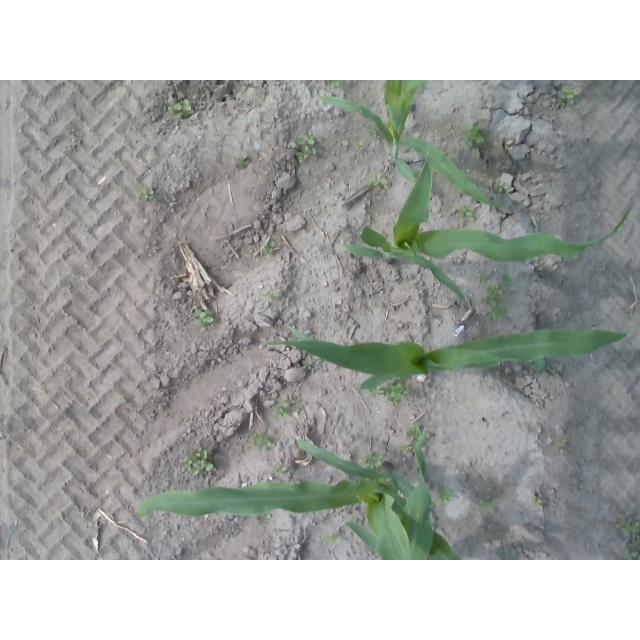Maize: (343, 142, 638, 307), (138, 432, 462, 560), (261, 321, 628, 392), (313, 80, 506, 208)
Weeds: (478, 270, 515, 322), (175, 447, 213, 477), (460, 122, 489, 150), (268, 395, 301, 418), (381, 380, 407, 407), (555, 84, 582, 108), (296, 134, 317, 163), (192, 308, 217, 332), (251, 428, 274, 453), (168, 99, 194, 118), (363, 171, 390, 189), (616, 514, 640, 534), (436, 483, 457, 505), (456, 204, 476, 224), (625, 533, 639, 560), (362, 449, 380, 468), (529, 493, 546, 512), (135, 187, 157, 201), (270, 461, 286, 480), (111, 388, 128, 405), (478, 497, 498, 511), (406, 422, 423, 438), (261, 242, 277, 258), (492, 181, 510, 195), (364, 124, 379, 138), (324, 533, 341, 545), (534, 360, 547, 375), (325, 80, 346, 89), (235, 157, 249, 170), (263, 289, 277, 302), (363, 387, 378, 398), (400, 443, 414, 454), (68, 127, 79, 139), (301, 359, 312, 370), (555, 437, 567, 447), (354, 140, 366, 149), (263, 514, 274, 522), (224, 93, 232, 99)
